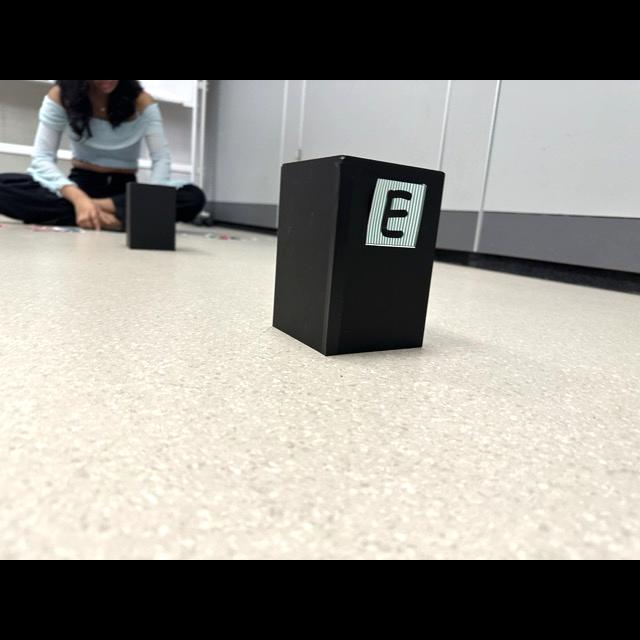E: (381, 191, 412, 238)
